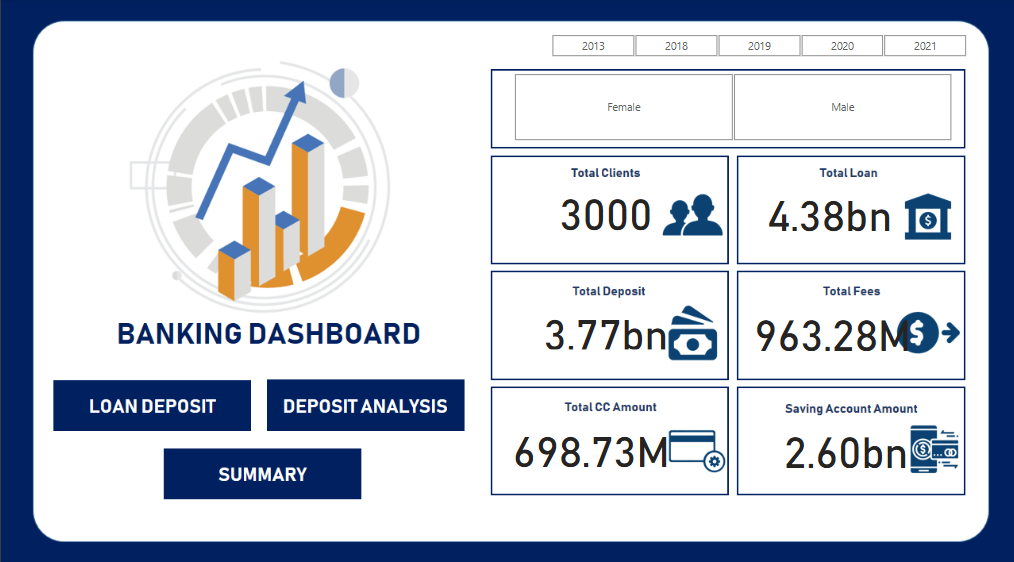

This screenshot's page, from the dashboard's own definition file:
{"tool":"powerbi","page":{"name":"Home","canvas":[1280,720],"ordinal":0},"visuals":[{"type":"card","fields":{"Values":["CountNonNull(banking_case customer.Name)"]},"box":[640.5,233.2,242.3,68.1],"z":0},{"type":"slicer","fields":{"Values":["banking_case customer.GenderId"]},"box":[620.8,89.3,599.6,96.9],"z":1000},{"type":"card","fields":{"Values":["banking_case customer.Total Loan"]},"box":[920.6,227.1,246.8,81.8],"z":2000},{"type":"card","fields":{"Values":["banking_case customer.Total Deposit"]},"box":[640.5,387.6,242.3,60.6],"z":3000},{"type":"slicer","fields":{"Values":["banking_case customer.Year of Joining"]},"box":[669.3,39.4,570.9,37.9],"z":4000},{"type":"card","fields":{"Values":["Sum(banking_case customer.Checking Accounts)"]},"box":[925.2,387.6,242.3,62.1],"z":5000},{"type":"card","fields":{"Values":["Sum(banking_case customer.Saving Accounts)"]},"box":[620.8,533,242.3,63.6],"z":6000},{"type":"card","fields":{"Values":["Sum(banking_case customer.Business Lending)"]},"box":[943.3,534.5,242.3,62.1],"z":7000},{"type":"actionButton","box":[71.2,480,242.3,66.6],"z":8000},{"type":"actionButton","box":[337.7,480,246.8,66.6],"z":9000},{"type":"actionButton","box":[209,566.3,252.9,65.1],"z":10000}]}

Visuals, with their boxes in screenshot pixels (x1, y1, x2, y2), scaled from the page's 1280x720 canvas onto the 1014x562 screenshot:
card - CountNonNull(banking_case customer.Name): left=507, top=182, right=699, bottom=235
slicer - banking_case customer.GenderId: left=492, top=70, right=967, bottom=145
card - banking_case customer.Total Loan: left=729, top=177, right=925, bottom=241
card - banking_case customer.Total Deposit: left=507, top=303, right=699, bottom=350
slicer - banking_case customer.Year of Joining: left=530, top=31, right=982, bottom=60
card - Sum(banking_case customer.Checking Accounts): left=733, top=303, right=925, bottom=351
card - Sum(banking_case customer.Saving Accounts): left=492, top=416, right=684, bottom=466
card - Sum(banking_case customer.Business Lending): left=747, top=417, right=939, bottom=466
actionButton: left=56, top=375, right=248, bottom=427
actionButton: left=268, top=375, right=463, bottom=427
actionButton: left=166, top=442, right=366, bottom=493
